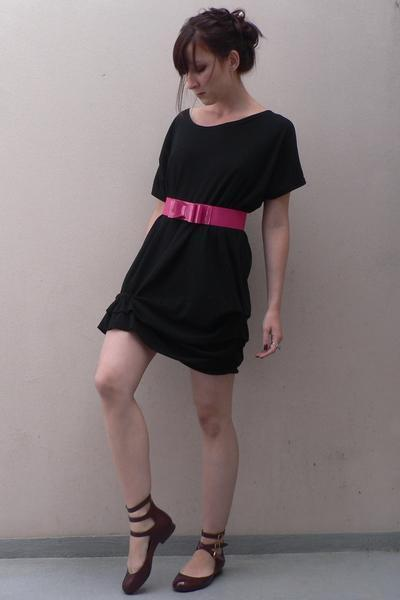dress: (97, 109, 305, 374)
shoe: (122, 494, 228, 594)
